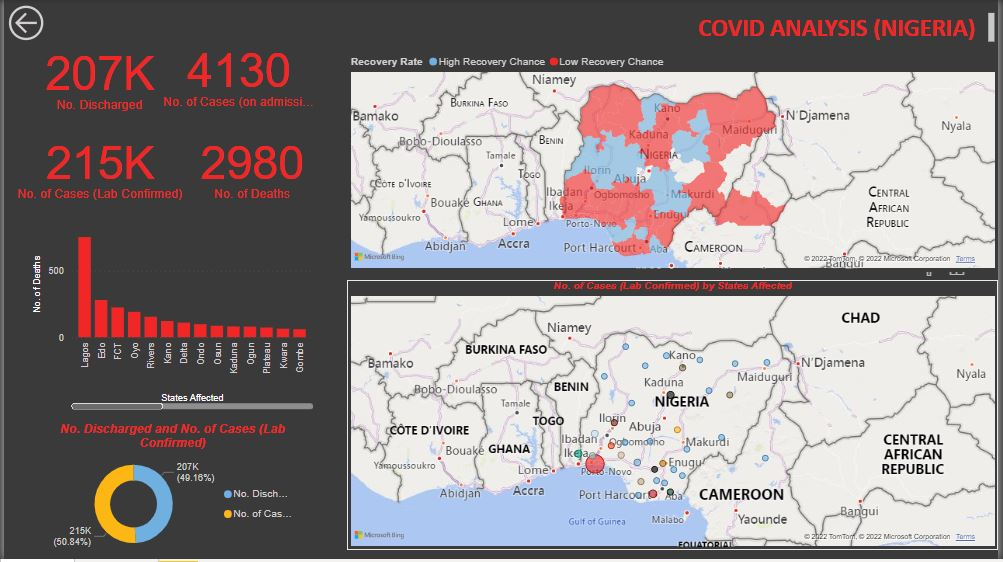

The dashboard page shown, as its layout file describes it:
{"tool":"powerbi","page":{"name":"NCDC","canvas":[1280,720],"ordinal":1},"visuals":[{"type":"card","fields":{"Values":["Sum(Table 1.No. Discharged)"]},"box":[46.7,35.4,152.8,125.9],"z":0},{"type":"card","fields":{"Values":["Sum(Table 1.No. of Cases (Lab Confirmed))"]},"box":[9.9,144.3,226.3,137.2],"z":1000},{"type":"card","fields":{"Values":["Sum(Table 1.No. of Cases (on admission))"]},"box":[199.4,39.6,205.1,108.9],"z":2000},{"type":"card","fields":{"Values":["Sum(Table 1.No. of Deaths)"]},"box":[236.2,144.3,166.9,137.2],"z":3000},{"type":"map","fields":{"Category":["Table 1.States Affected"],"Size":["Sum(Table 1.No. of Cases (Lab Confirmed))"]},"box":[441.3,360.7,838.8,348],"z":4000},{"type":"clusteredColumnChart","fields":{"Category":["Table 1.States Affected"],"Y":["Sum(NCDC.No. of Deaths)"]},"box":[32.5,282.9,370.6,249],"z":5000},{"type":"actionButton","box":[0,0,56.6,59.4],"z":6000},{"type":"donutChart","fields":{"Y":["Sum(Table 1.No. Discharged)","Sum(Table 1.No. of Cases (Lab Confirmed))"]},"box":[46.7,543.2,340.9,176.8],"z":7000},{"type":"filledMap","fields":{"Category":["NCDC.States Affected"],"Series":["NCDC.Recovery Rate"]},"box":[441.3,59.4,838.8,291.4],"z":8000},{"type":"textbox","box":[888.3,11.3,391.8,48.1],"z":9000}]}

Visuals, with their boxes in screenshot pixels (x1, y1, x2, y2), scaled from the page's 1280x720 canvas onto the 1003x562 screenshot:
card - Sum(Table 1.No. Discharged): x1=37, y1=28, x2=156, y2=126
card - Sum(Table 1.No. of Cases (Lab Confirmed)): x1=8, y1=113, x2=185, y2=220
card - Sum(Table 1.No. of Cases (on admission)): x1=156, y1=31, x2=317, y2=116
card - Sum(Table 1.No. of Deaths): x1=185, y1=113, x2=316, y2=220
map - Table 1.States Affected x Sum(Table 1.No. of Cases (Lab Confirmed)): x1=346, y1=282, x2=1002, y2=553
clusteredColumnChart - Table 1.States Affected x Sum(NCDC.No. of Deaths): x1=25, y1=221, x2=316, y2=415
actionButton: x1=0, y1=0, x2=44, y2=46
donutChart - Sum(Table 1.No. Discharged) x Sum(Table 1.No. of Cases (Lab Confirmed)): x1=37, y1=424, x2=304, y2=561
filledMap - NCDC.States Affected x NCDC.Recovery Rate: x1=346, y1=46, x2=1002, y2=274
textbox: x1=696, y1=9, x2=1002, y2=46
